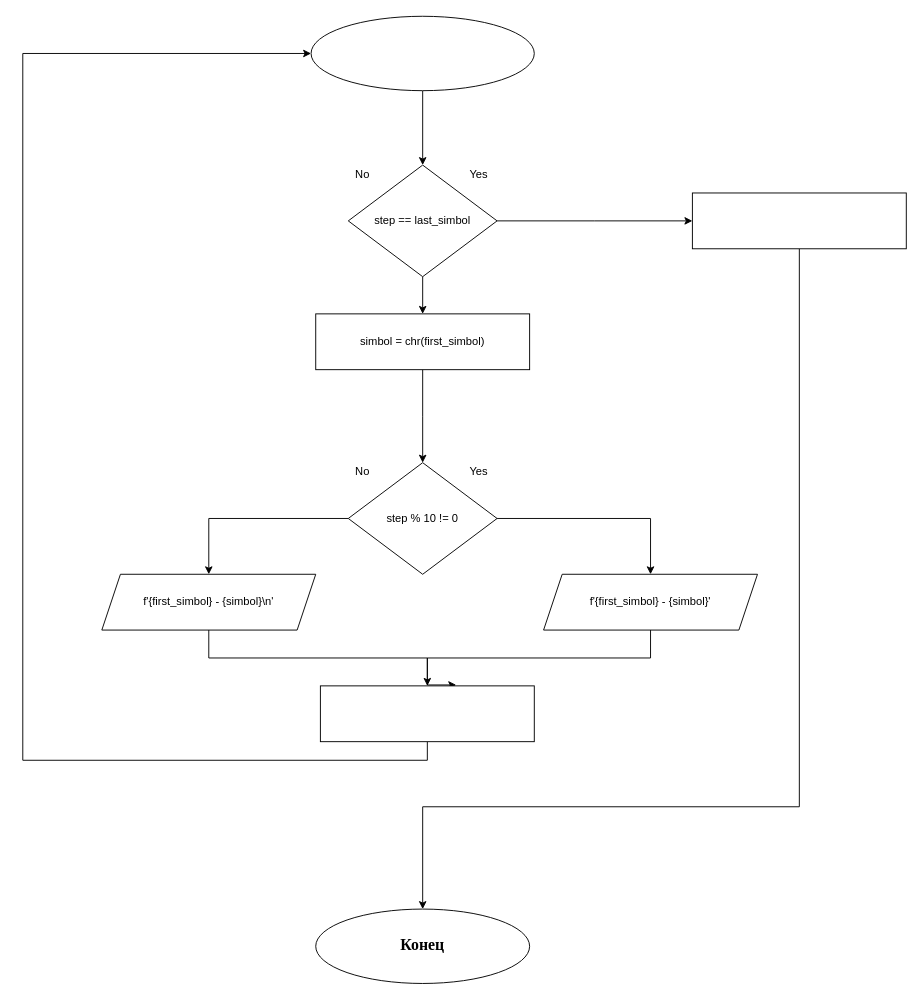
Image size: 923x1000. Some labels were removed from this diagram. The shapes that lost their labels are listed below. From the top down, each one's centre as x and y in pixels, then its label:
pixel 422 53: Cod(first_simbol, last_simbol, step=1)
pixel 798 220: return ' '
pixel 426 713: first_simbol + 1, step + 1
